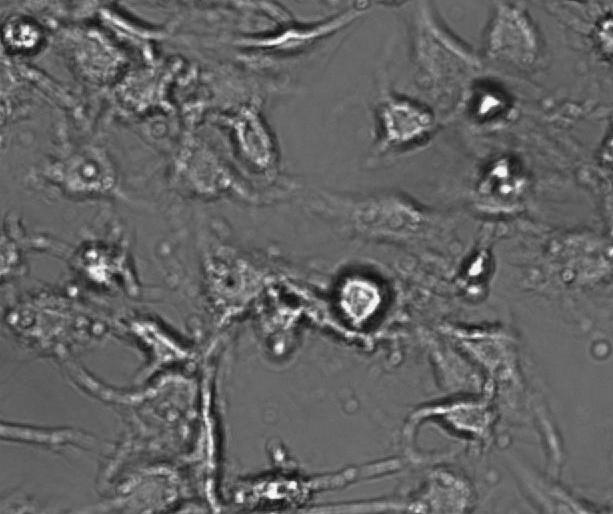Dead: (62, 235, 148, 306), (323, 259, 396, 334), (469, 150, 537, 205), (235, 472, 322, 509), (448, 249, 506, 303), (462, 76, 519, 127), (1, 10, 49, 61)
